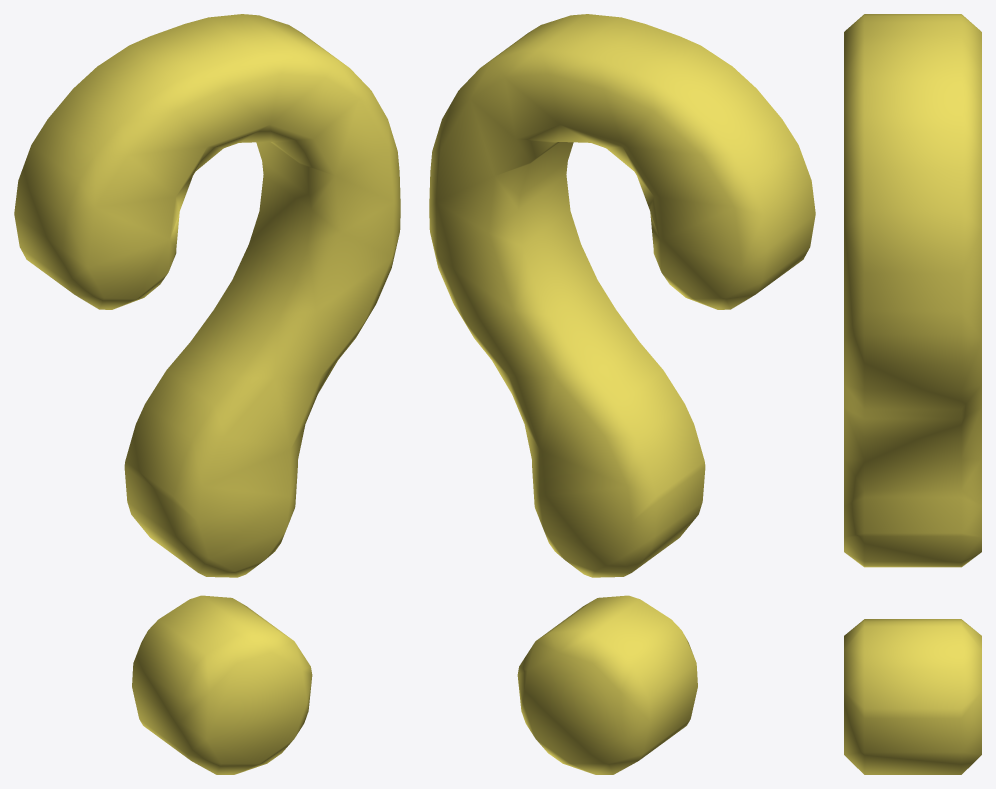
The model's file is symbols.glb.
3 renders of one model, left to right at view 1: azimuth 30°, elevation 25°; view 2: azimuth 150°, elevation 25°; view 3: azimuth 270°, elevation 25°, orthographic.
Parts seen in each view (by area): view 1: Question; view 2: Question; view 3: Question.
Boxes of the visible parts, x1,y1,x2,y2 form: Question: (14, 14, 400, 774); Question: (429, 14, 815, 774); Question: (844, 14, 981, 774).
Bounding box in the file's own units: 0.7429 × 1.5 × 0.2589.
